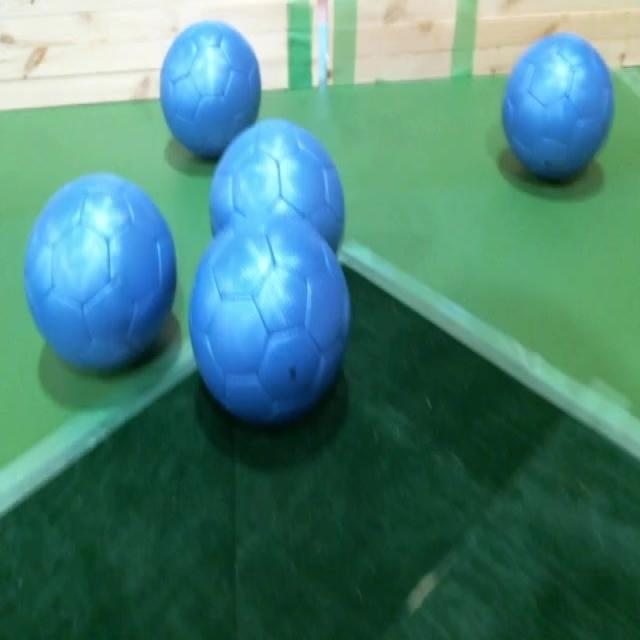blue_ball: (190, 218, 353, 432), (24, 178, 176, 375), (208, 120, 346, 253), (502, 31, 614, 182), (158, 22, 264, 159)
